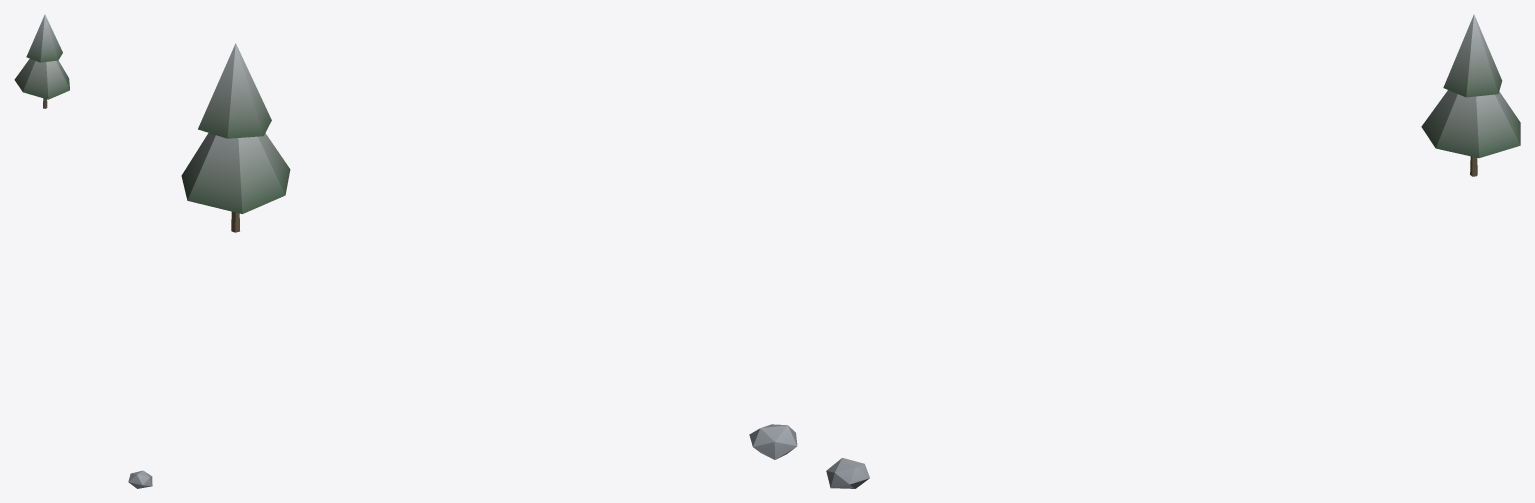
Rendered from frost_land_scatter_c17_12_lod1.glb.
3 renders of one model, left to right at view 1: azimuth 30°, elevation 25°; view 2: azimuth 150°, elevation 25°; view 3: azimuth 270°, elevation 25°, orthographic. The views are drawn at different scales.
Visible parts, largest first — view 1: frost_land_scatter_c17_12_lod1; view 2: frost_land_scatter_c17_12_lod1; view 3: frost_land_scatter_c17_12_lod1.
Part boxes in pixels (<box>): frost_land_scatter_c17_12_lod1: <box>14,14,152,488</box>; frost_land_scatter_c17_12_lod1: <box>181,43,797,459</box>; frost_land_scatter_c17_12_lod1: <box>826,14,1520,488</box>.
Bounding box in the file's own units: 19.34 × 47.22 × 54.51.
